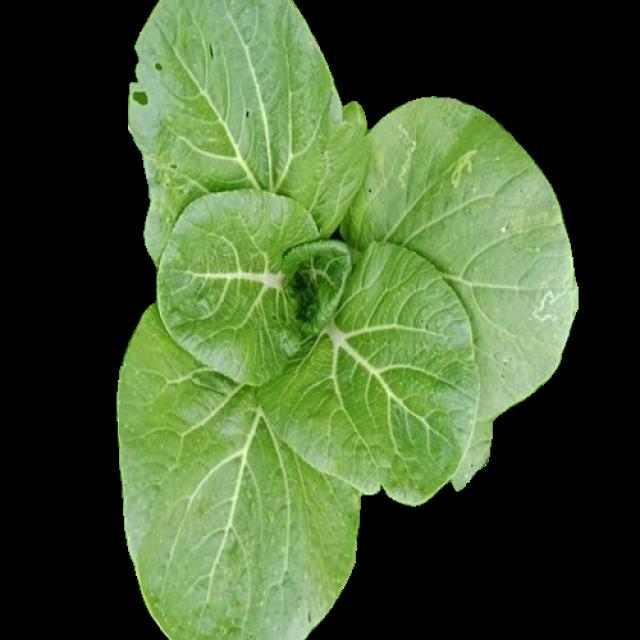mature: (107, 1, 574, 636)
unhealthy: (352, 98, 570, 490), (130, 1, 368, 264)
